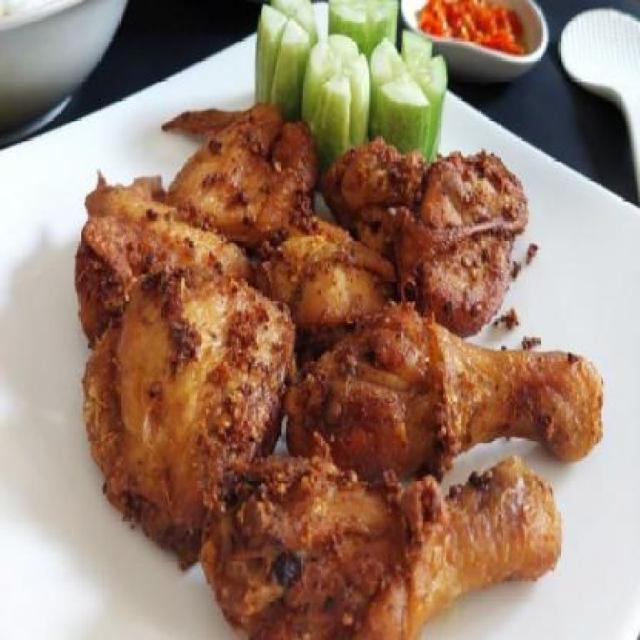Wet Waste: (74, 175, 294, 577), (203, 456, 569, 638), (286, 305, 606, 477), (163, 106, 375, 328), (326, 144, 528, 338)
